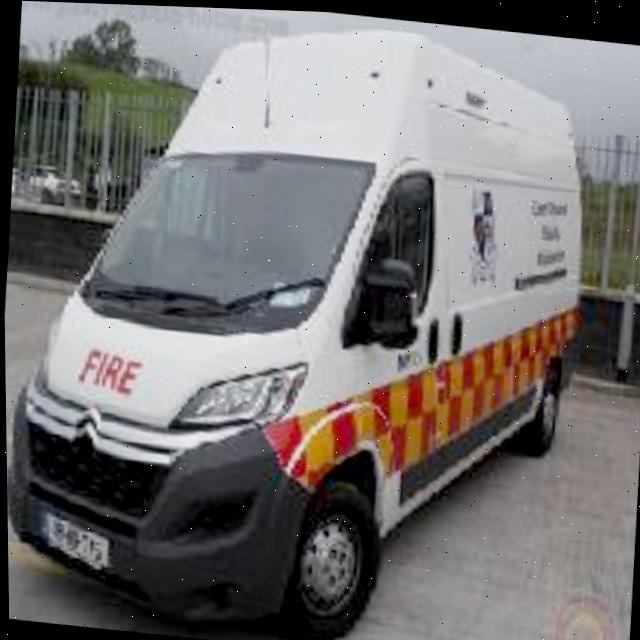emergency: (0, 3, 598, 640)
